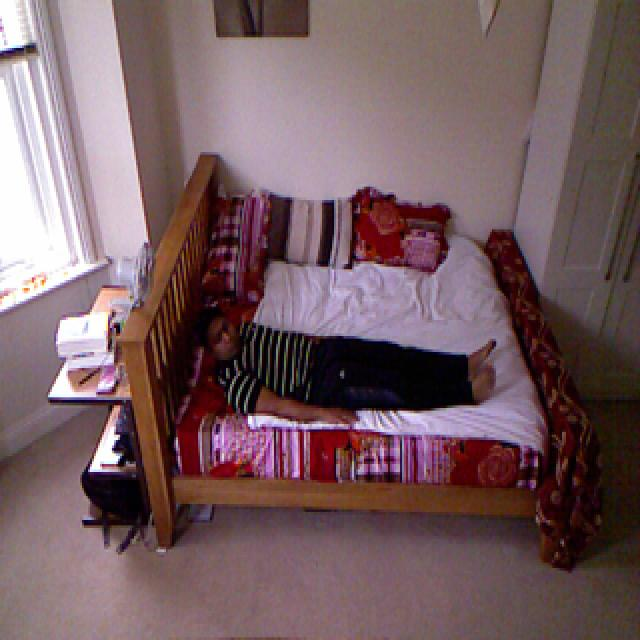lying: (188, 302, 508, 438)
